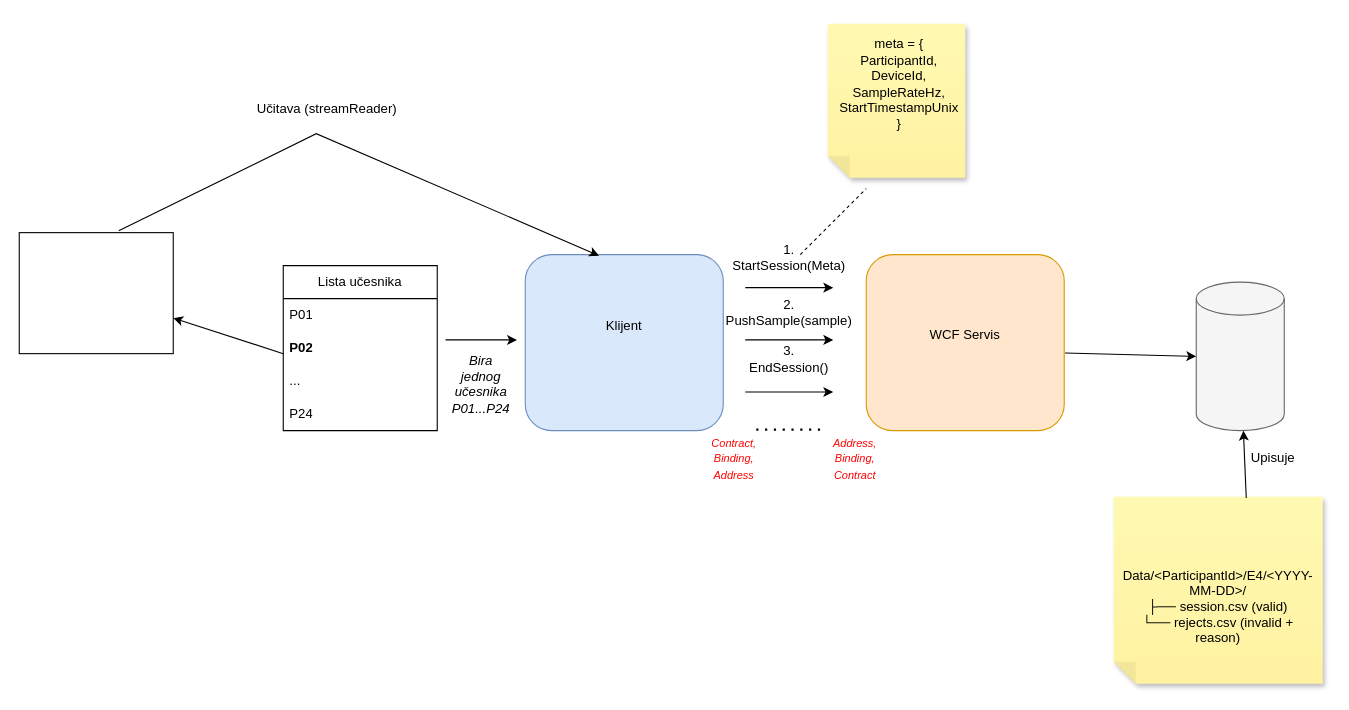
This 1349x710 diagram has some shape labels left out. Each missing label, with the centre of its shape:
"Skladište na disku" belongs at point 1239,356.
"U E4 folderu: BVP. csv, HR.csv, IBI.csv" belongs at point 95,293.
